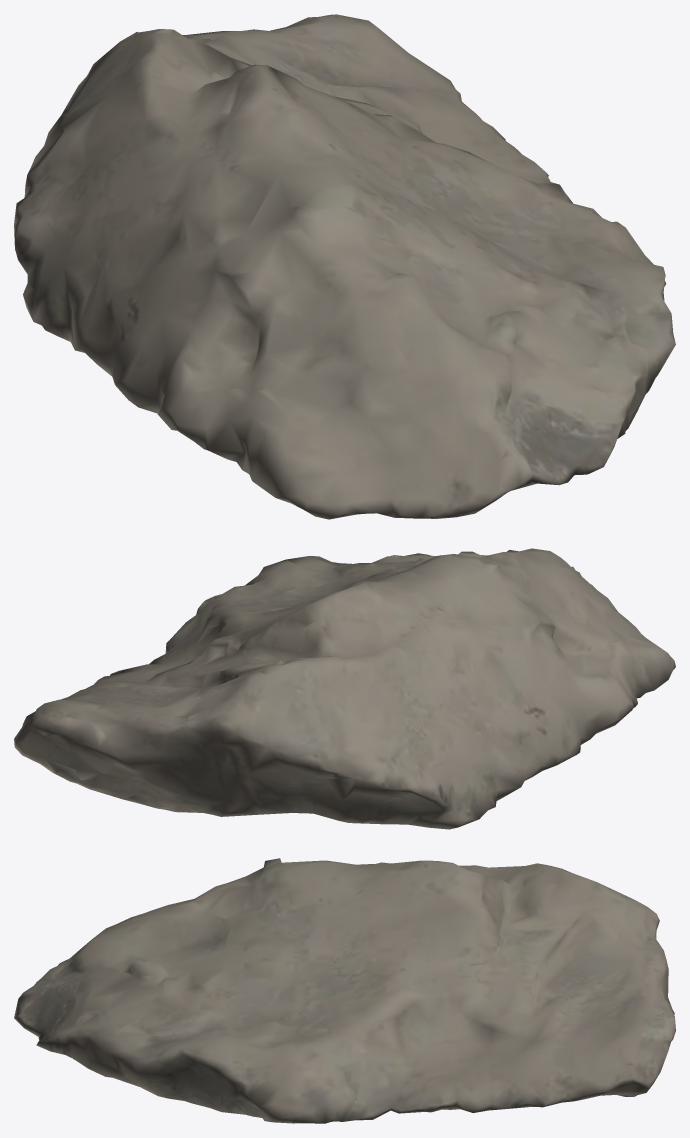
The model's file is moon_rock_04.glb.
3 views of the same model, one above another, from view 1: azimuth 30°, elevation 25°; view 2: azimuth 150°, elevation 25°; view 3: azimuth 270°, elevation 25° (orthographic). The views are drawn at different scales.
Parts seen in each view (by area): view 1: moon_rock_04_LOD0; view 2: moon_rock_04_LOD0; view 3: moon_rock_04_LOD0.
Boxes of the visible parts, bbox=[...] form: moon_rock_04_LOD0: bbox=[14, 14, 675, 519]; moon_rock_04_LOD0: bbox=[14, 548, 675, 829]; moon_rock_04_LOD0: bbox=[14, 858, 675, 1123].
Bounding box in the file's own units: 0.1198 × 0.0538 × 0.1738.
Materials: 1 (1 with a texture image).
